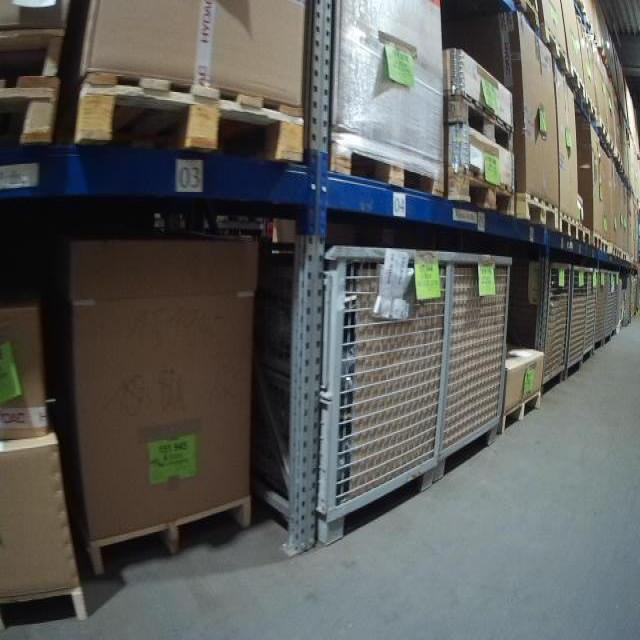pallet: (75, 64, 308, 172), (88, 494, 252, 584), (325, 125, 446, 209), (2, 71, 63, 167), (447, 162, 519, 226), (446, 88, 514, 151), (2, 579, 83, 631), (0, 17, 74, 69), (499, 389, 543, 436), (520, 195, 561, 238), (507, 2, 543, 35), (559, 209, 579, 244), (579, 220, 593, 248)
stillage: (257, 228, 451, 548), (433, 240, 517, 489), (510, 257, 571, 399), (563, 262, 585, 382), (580, 263, 600, 370), (599, 267, 608, 352), (613, 270, 622, 336), (609, 266, 615, 353), (622, 292, 632, 330)
